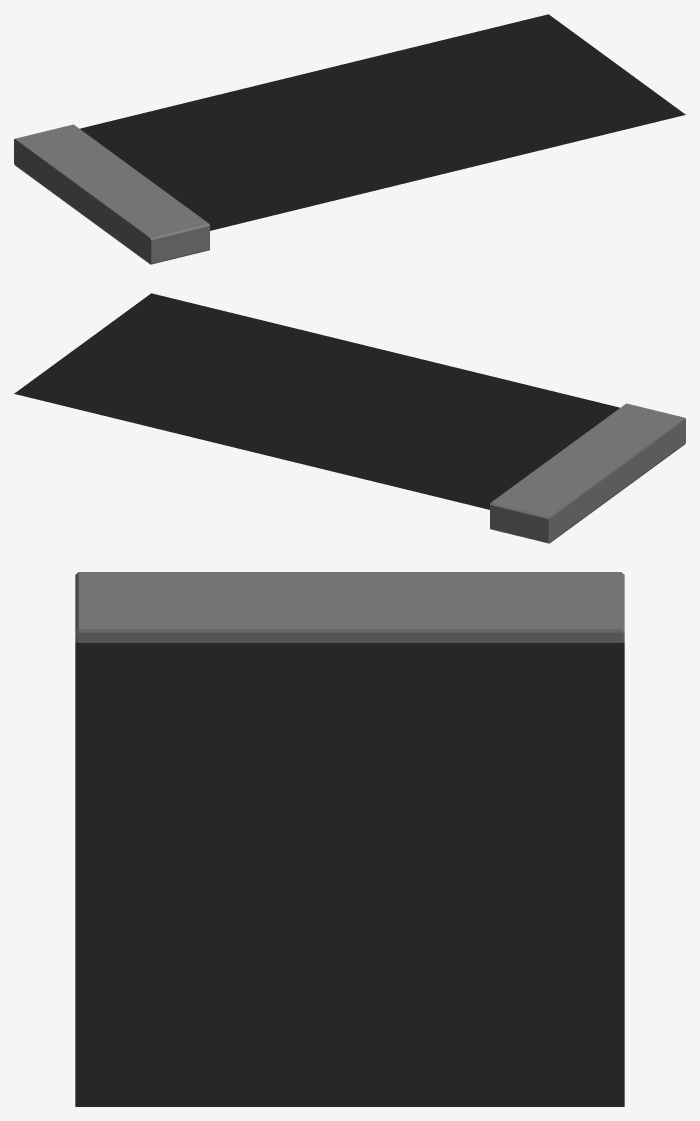
File: Larry_Run__Side_Walk.fbx
The picture shows the model from 3 angles, top to bottom: view 1: azimuth 30°, elevation 25°; view 2: azimuth 150°, elevation 25°; view 3: azimuth 270°, elevation 25°; orthographic projection. The views are drawn at different scales.
Parts seen in each view (by area): view 1: Side_Walk; view 2: Side_Walk; view 3: Side_Walk.
Boxes of the visible parts, left/top/right/bottom form: Side_Walk: left=14, top=14, right=685, bottom=264; Side_Walk: left=14, top=293, right=685, bottom=543; Side_Walk: left=75, top=572, right=624, bottom=1106.
Bounding box in the file's own units: 225 × 10.68 × 100.
